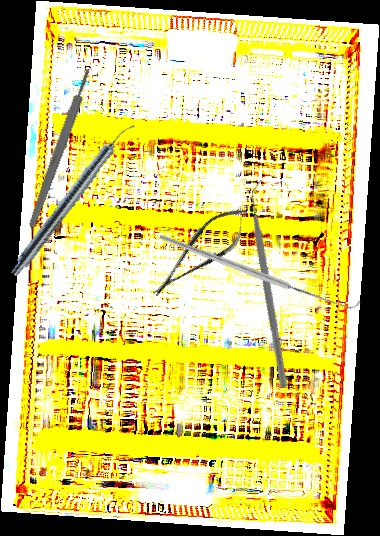Chopper: (170, 178, 376, 389)
Handpiece: (7, 117, 138, 281)
Hook Surgical: (158, 163, 362, 377)
Micro Scissor: (140, 196, 260, 308)
Scalpel Handle: (26, 67, 94, 229)
